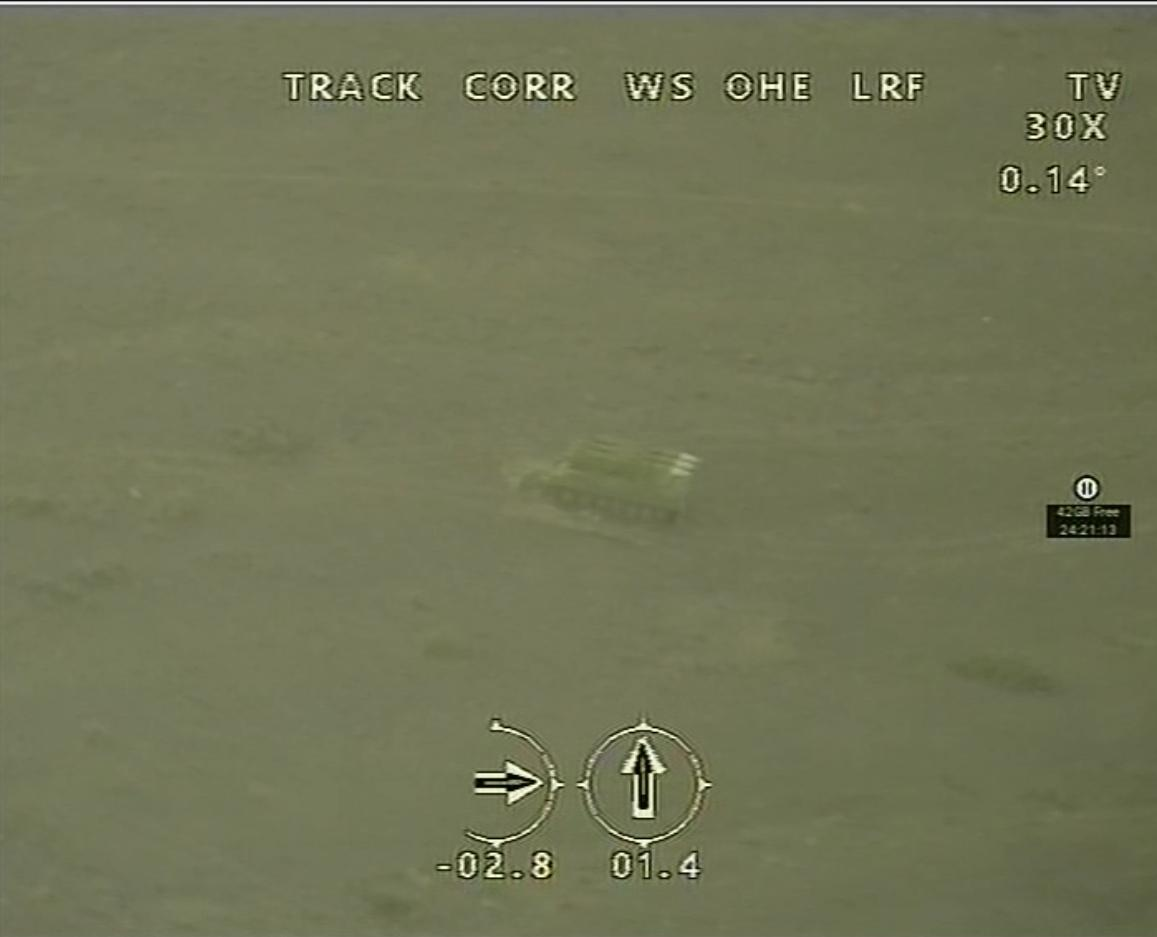armored_car: (545, 430, 706, 532)
